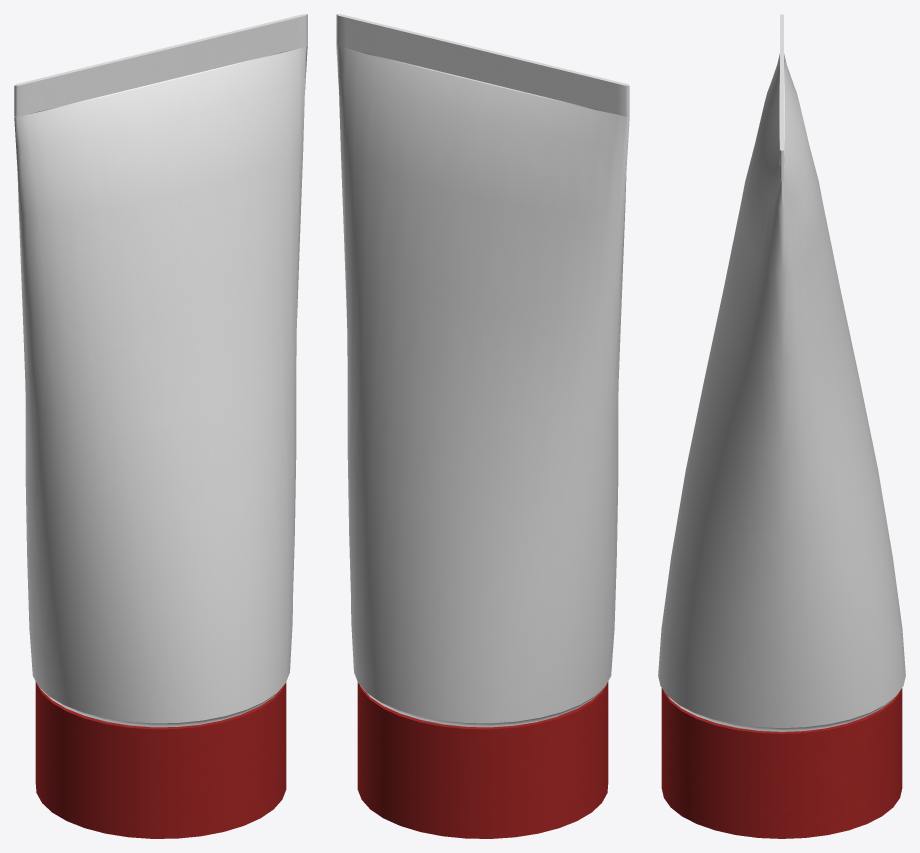
The model's file is CreamTube.fbx.
The picture shows the model from 3 angles, left to right: view 1: azimuth 30°, elevation 25°; view 2: azimuth 150°, elevation 25°; view 3: azimuth 270°, elevation 25°; orthographic projection. The views are drawn at different scales.
Visible parts, largest first — view 1: CreamTube; view 2: CreamTube; view 3: CreamTube.
Part boxes in pixels (x1=…): CreamTube: x1=14, y1=14, x2=307, y2=838; CreamTube: x1=336, y1=14, x2=629, y2=838; CreamTube: x1=658, y1=14, x2=905, y2=838.
Size of the model in its own units: 2.02 by 4.84 by 1.54.
